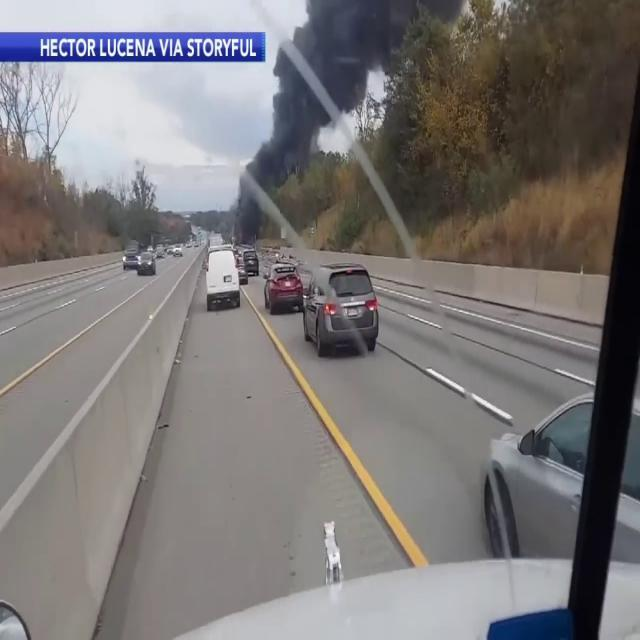Smoke: (236, 0, 419, 235)
